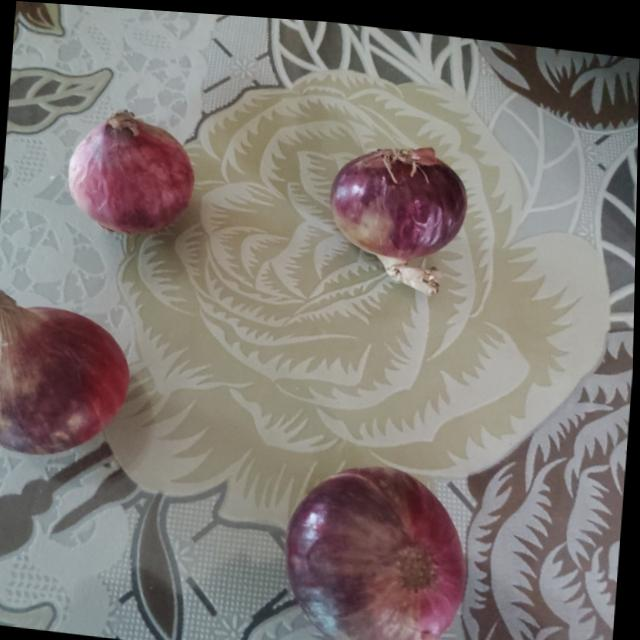onion: (287, 457, 481, 640), (0, 290, 138, 466), (69, 101, 203, 235), (327, 138, 469, 261)
